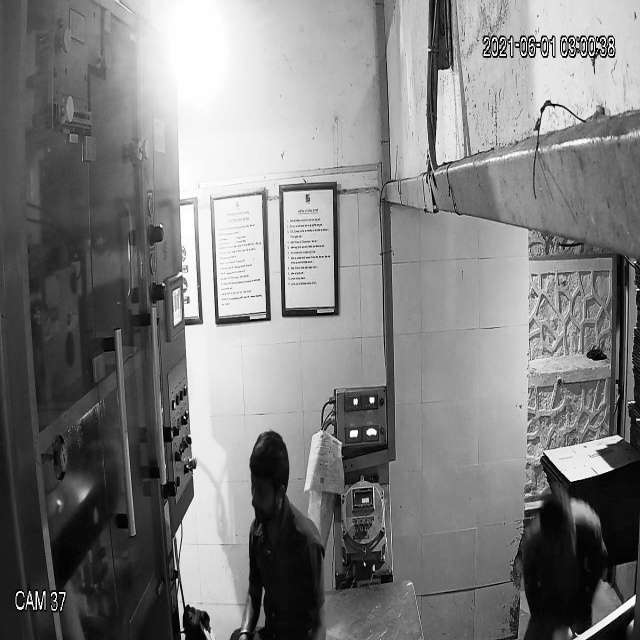Sin_gafas: (246, 471, 290, 506)
